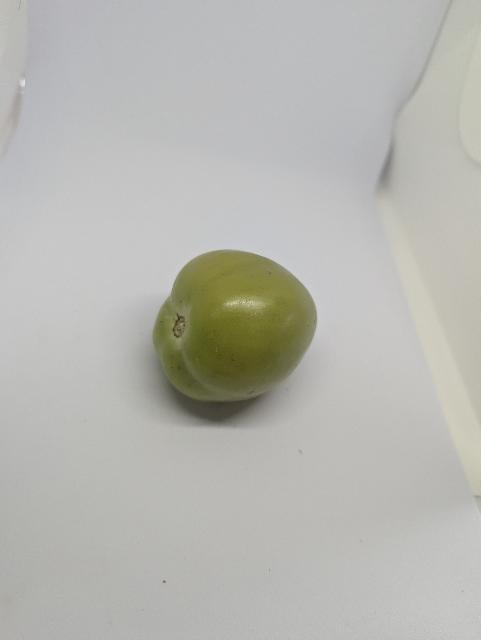green: (135, 244, 331, 421)
